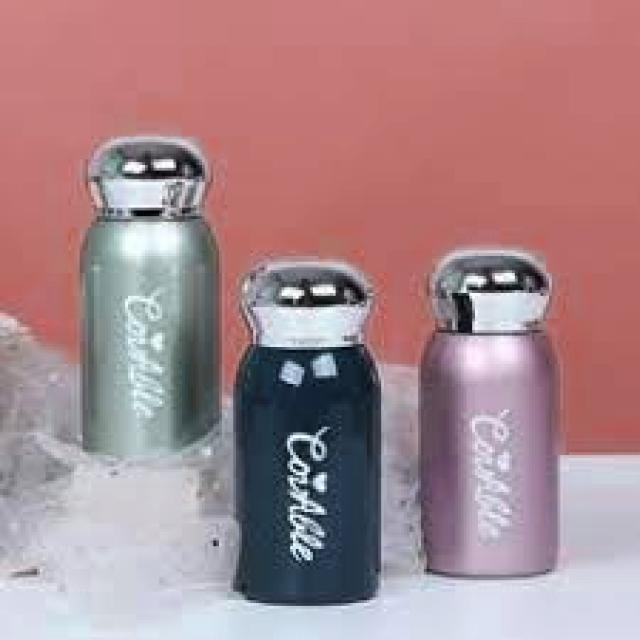bottle: (53, 122, 223, 458), (234, 244, 386, 606), (421, 245, 569, 583)
